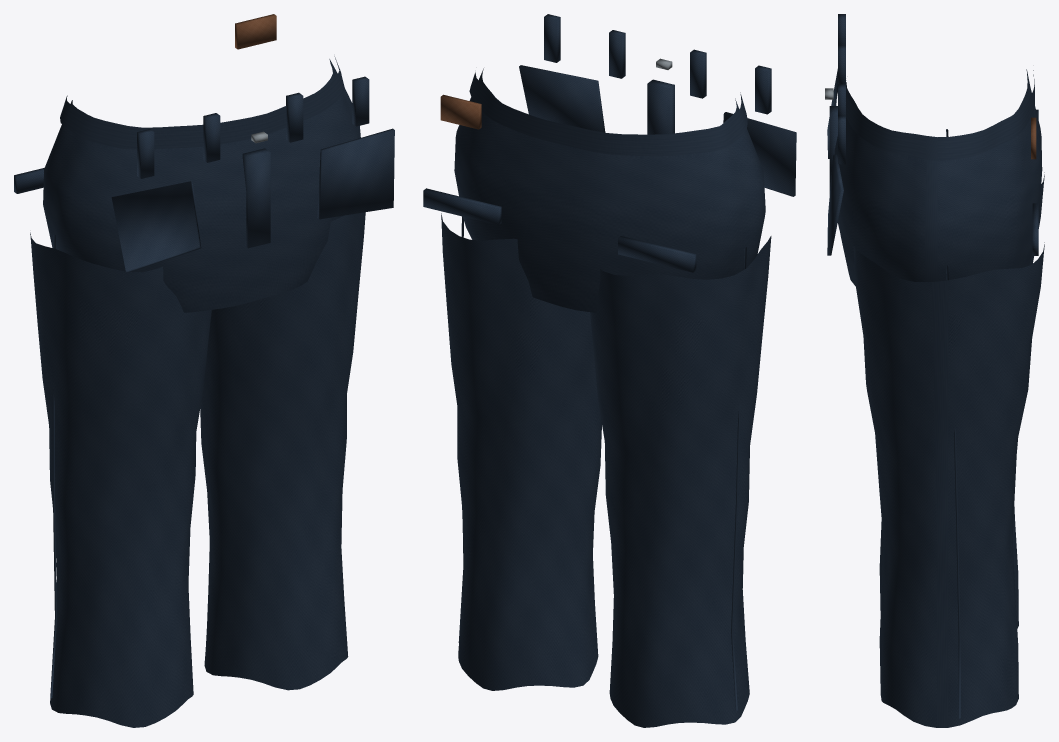
File: PZ_Survivor_06_Jeans_Dark.glb
3 views of the same model, side by side, from view 1: azimuth 30°, elevation 25°; view 2: azimuth 150°, elevation 25°; view 3: azimuth 270°, elevation 25° (orthographic). The views are drawn at different scales.
Parts seen in each view (by area): view 1: Trouser_Leg_L, Trouser_Leg_R, Waist_And_Seat_Fabric, Hip_Pocket_L, Hip_Pocket_R, Waistband_Double_Stitch, Fly_Zipper_Placket, Back_Maker_Patch, Outer_Seam_L, Belt_Loop_L_-0.07, Belt_Loop_R_0.182, Belt_Loop_L_-0.182 (+1 smaller); view 2: Trouser_Leg_L, Trouser_Leg_R, Waist_And_Seat_Fabric, Waistband_Double_Stitch, Hip_Pocket_R, Hip_Pocket_L, Rear_Pocket_Welt_L, Rear_Pocket_Welt_R, Fly_Zipper_Placket, Back_Maker_Patch, Outer_Seam_L, Belt_Loop_L_-0.07 (+3 smaller); view 3: Trouser_Leg_R, Waist_And_Seat_Fabric, Waistband_Double_Stitch, Hip_Pocket_R, Outer_Seam_R, Trouser_Leg_L, Fly_Zipper_Placket, Belt_Loop_R_0.182, Rear_Pocket_Welt_R.
Boxes of the visible parts, x1,y1,x2,y2 form: Trouser_Leg_L: (30,232,211,727); Trouser_Leg_R: (200,212,365,690); Waist_And_Seat_Fabric: (43,59,360,312); Hip_Pocket_L: (111,181,201,272); Hip_Pocket_R: (317,128,394,219); Waistband_Double_Stitch: (60,56,344,149); Fly_Zipper_Placket: (242,148,270,248); Back_Maker_Patch: (235,14,276,49); Outer_Seam_L: (50,235,56,698); Belt_Loop_L_-0.07: (203,113,220,162); Belt_Loop_R_0.182: (352,76,369,126); Belt_Loop_L_-0.182: (137,129,154,178); Trouser_Leg_L: (590,236,771,727); Trouser_Leg_R: (441,213,601,690); Waist_And_Seat_Fabric: (454,68,765,312); Waistband_Double_Stitch: (469,72,747,156); Hip_Pocket_R: (519,65,605,132); Hip_Pocket_L: (723,112,796,196); Rear_Pocket_Welt_L: (618,236,696,272); Rear_Pocket_Welt_R: (423,188,501,225); Fly_Zipper_Placket: (647,79,674,134); Back_Maker_Patch: (440,94,481,129); Outer_Seam_L: (731,247,746,710); Belt_Loop_L_-0.07: (690,49,706,98); Trouser_Leg_R: (853,242,1044,727); Waist_And_Seat_Fabric: (834,69,1042,286); Waistband_Double_Stitch: (838,70,1034,160); Hip_Pocket_R: (827,154,843,255); Outer_Seam_R: (946,265,960,718); Trouser_Leg_L: (879,172,1044,628); Fly_Zipper_Placket: (829,106,837,193); Belt_Loop_R_0.182: (838,115,845,164); Rear_Pocket_Welt_R: (1032,203,1038,255).
Bounding box in the file's own units: 0.524 × 0.9935 × 0.3325.
Materials: 3 (3 with a texture image).
